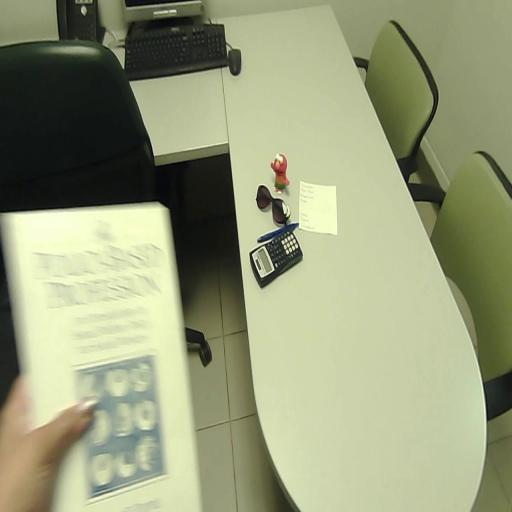pen: (257, 223, 299, 242)
